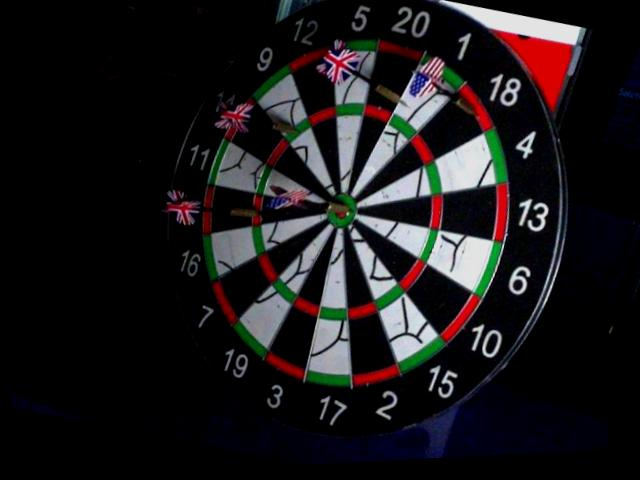bullseye: (325, 192, 357, 227)
double_18: (457, 85, 493, 128)
single_1: (401, 81, 446, 130)
single_8: (262, 199, 322, 224)
triple_9: (281, 119, 310, 144)
